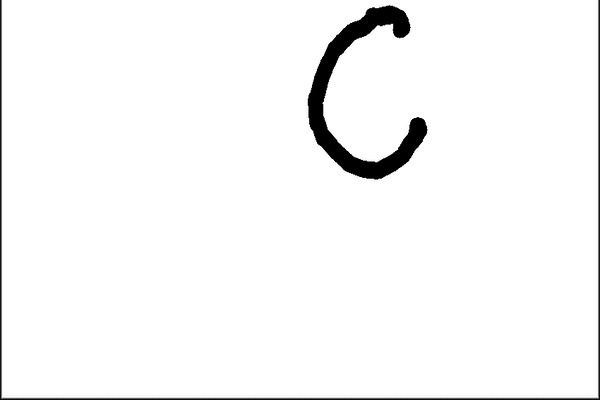C: (300, 2, 430, 183)
